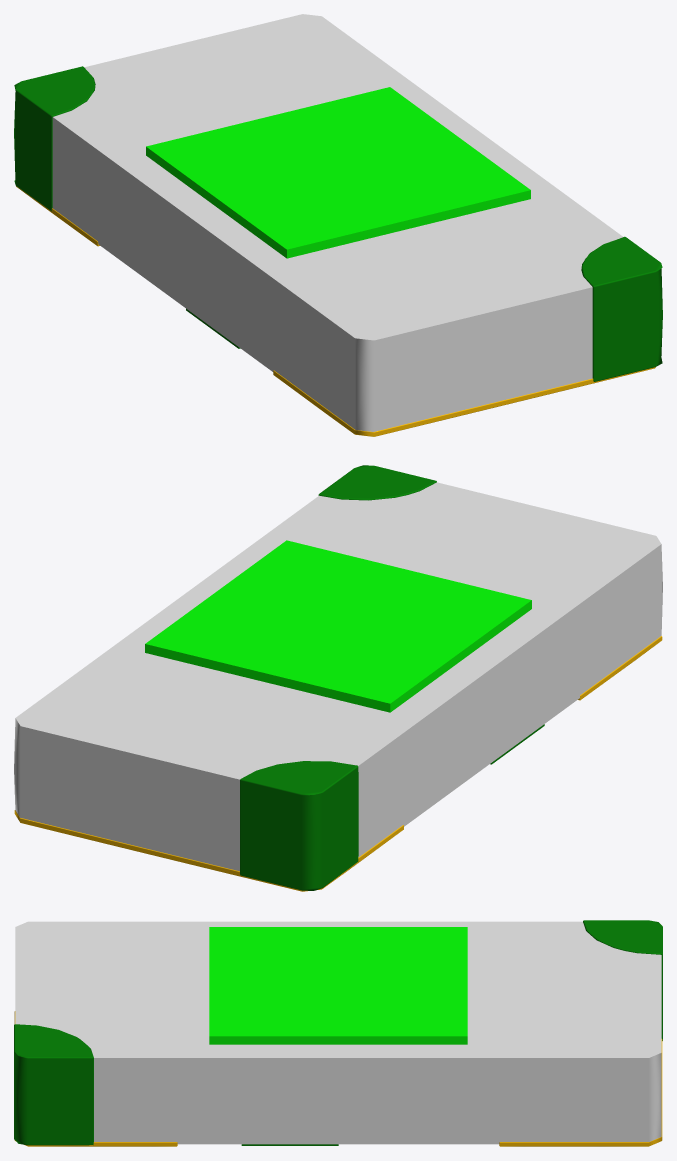
Rendered from LED0402-GREEN.glb.
3 renders of one model, top to bottom at view 1: azimuth 30°, elevation 25°; view 2: azimuth 150°, elevation 25°; view 3: azimuth 270°, elevation 25°, orthographic. The views are drawn at different scales.
Parts seen in each view (by area): view 1: =>[0:1:1:3]; view 2: =>[0:1:1:3]; view 3: =>[0:1:1:3].
Part boxes in pixels (x1,y1,x2,y2): =>[0:1:1:3]: (14, 14, 662, 436); =>[0:1:1:3]: (14, 465, 662, 891); =>[0:1:1:3]: (14, 920, 662, 1146).
Size of the model in its own units: 0.000504 by 0.000165 by 0.001.
